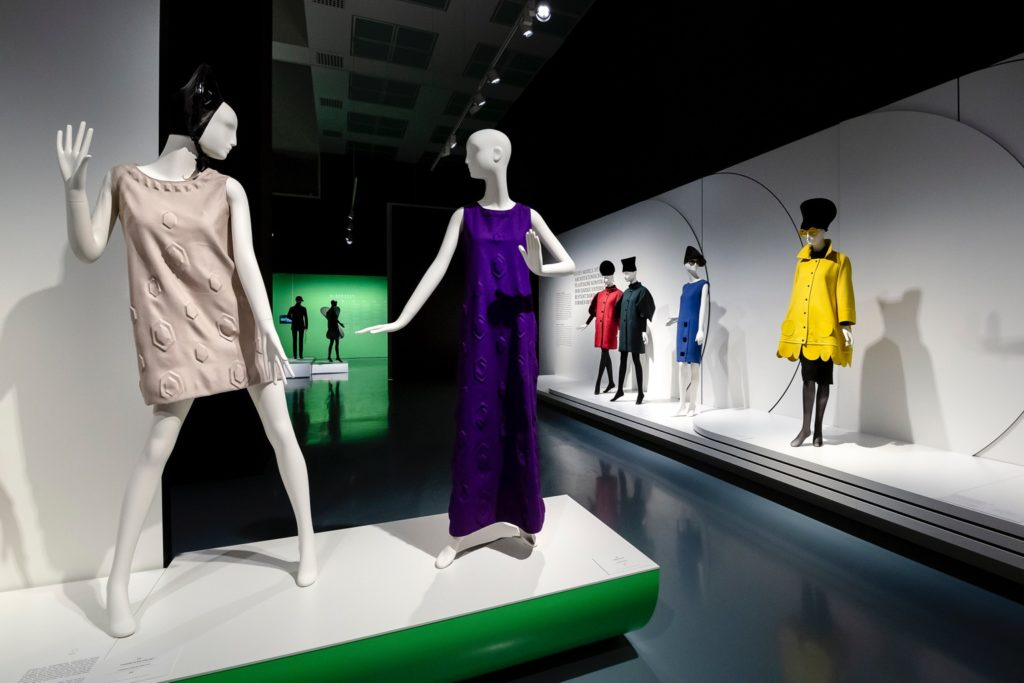person-like: (51, 66, 327, 643), (353, 121, 579, 573), (771, 193, 861, 452), (664, 243, 714, 421), (607, 251, 658, 409), (576, 257, 624, 396)
